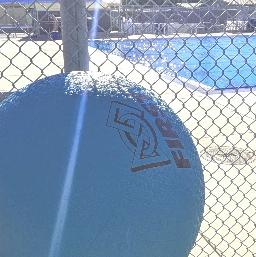algae: (0, 70, 205, 257)
